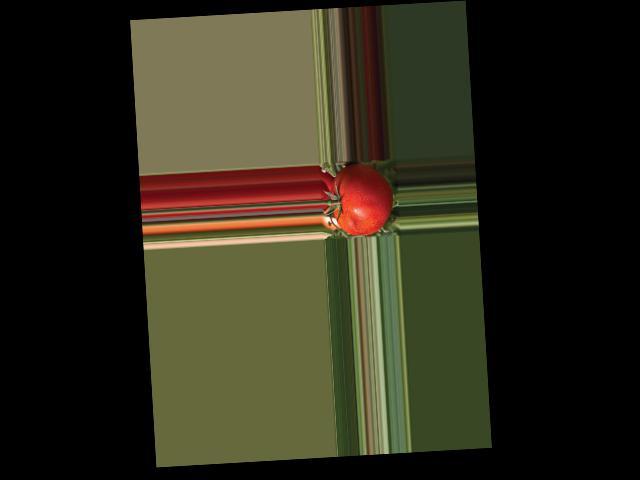tomato: (329, 162, 394, 237)
